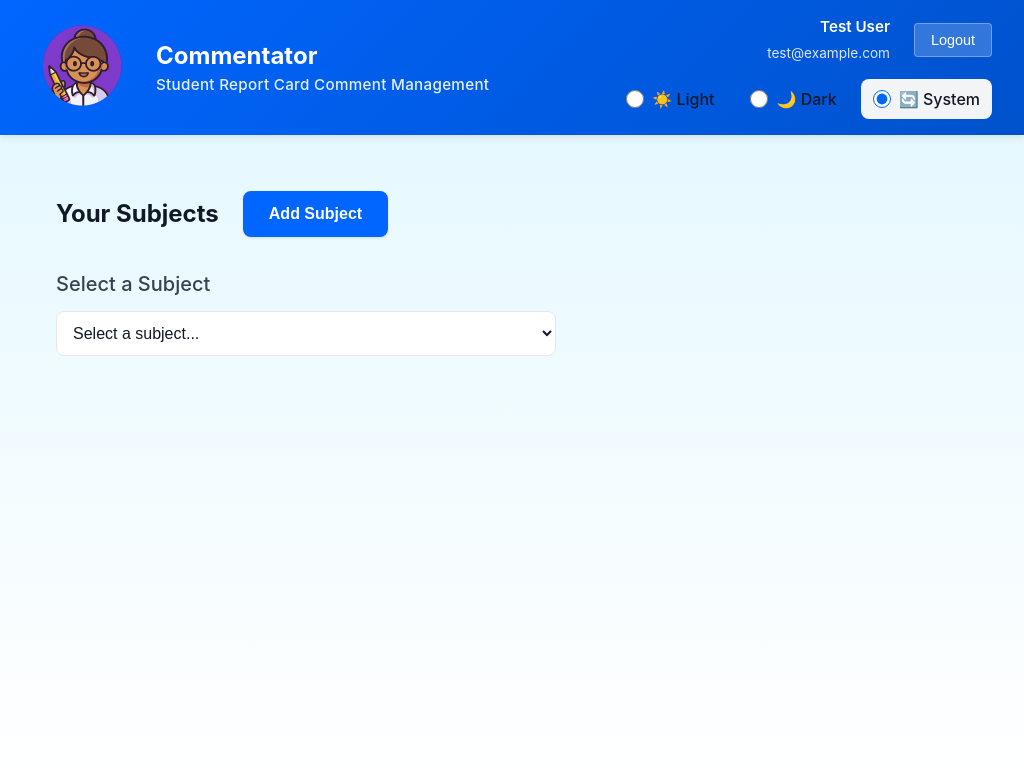
Test: App › Delete Flow Integration › should remove subject from list after successful deletion
Note: Select Mathematics 101 from dropdown to display the SubjectListItem
Select "Mathematics 101" in the dropdown named "select a subject to view" at (306,334), box [56, 311, 556, 356]
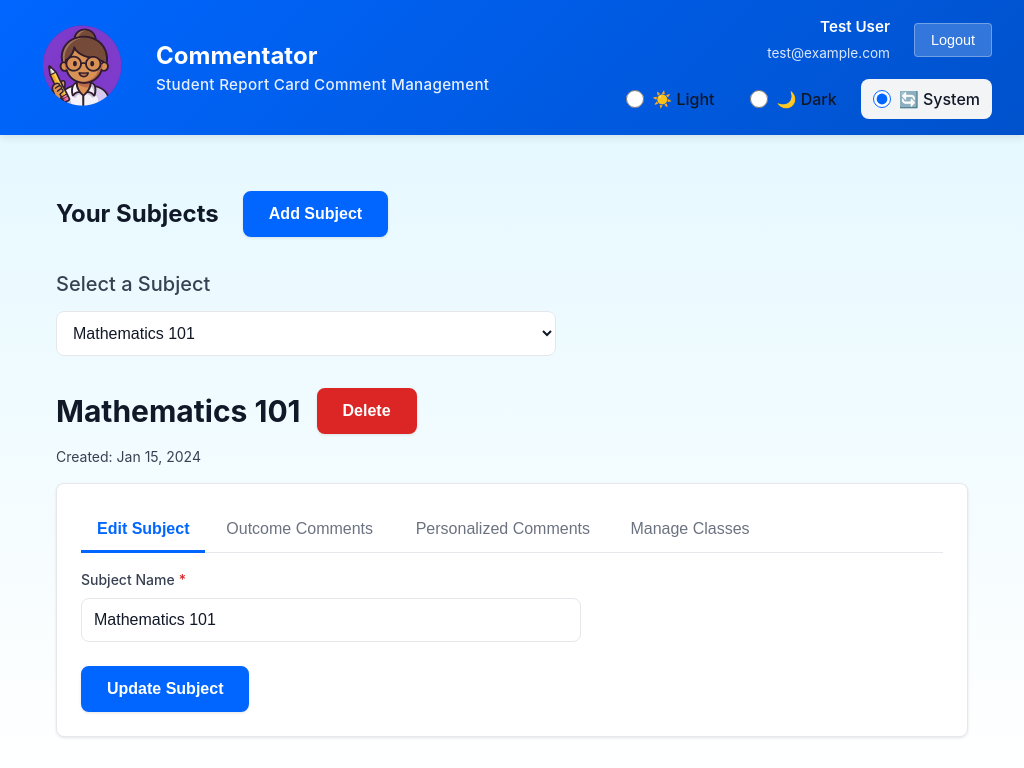
Check: the element with test id "subject-item-65a1b2c3d4e5f6g7h8i9j0k1" is shown, box [56, 388, 968, 737]
Note: Click delete button for Mathematics 101
Click the button with aria-label "delete mathematics 101" at (366,411), box [316, 388, 416, 434]
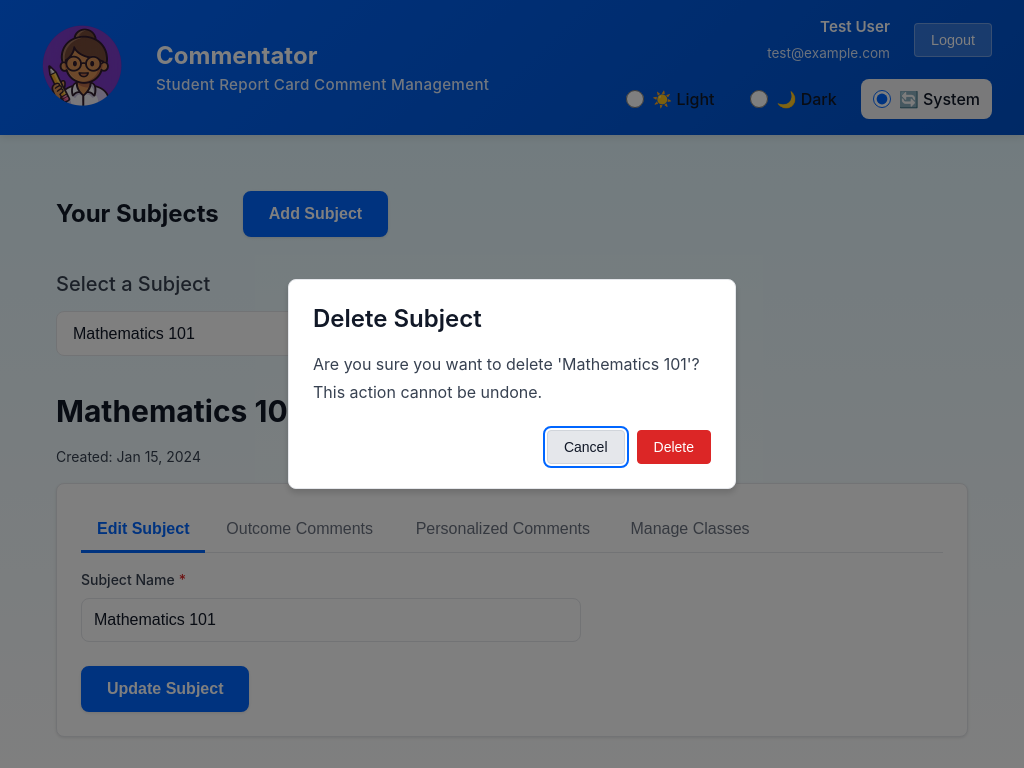
Check: the dialog is shown, box [288, 279, 736, 489]
Check: the text "Are you sure you want to delete 'Mathematics 101'" is shown, box [313, 354, 700, 402]
Note: Confirm deletion
Click the button "Delete" at (674,447), box [636, 430, 711, 464]
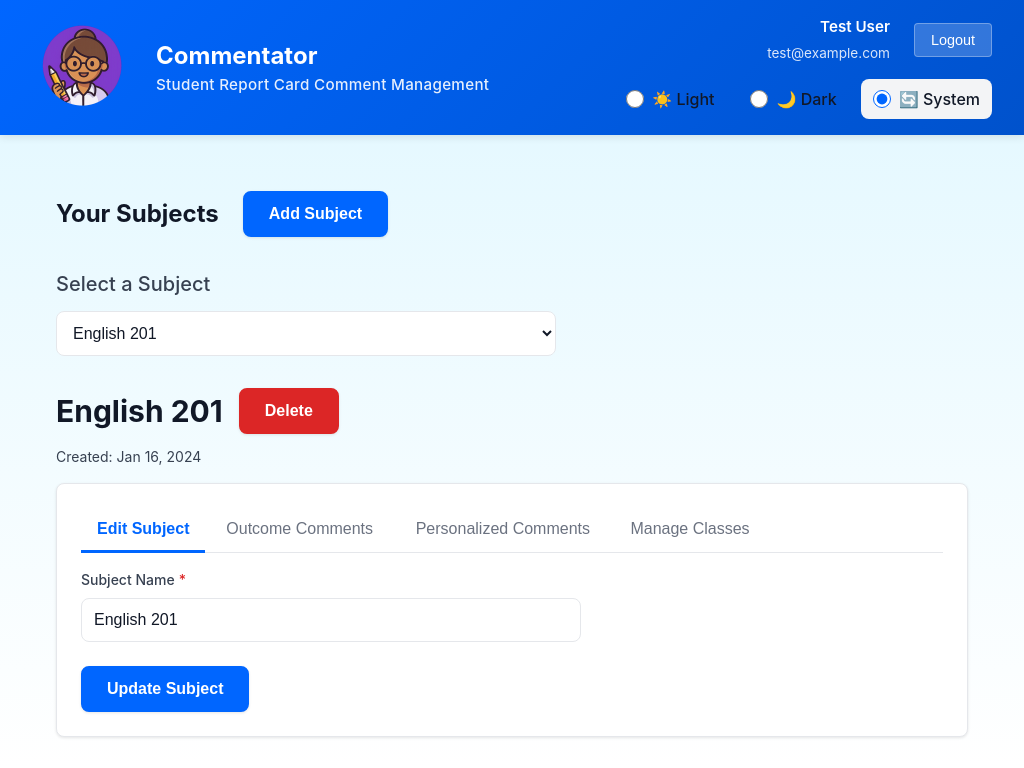
Check: the dialog is gone
